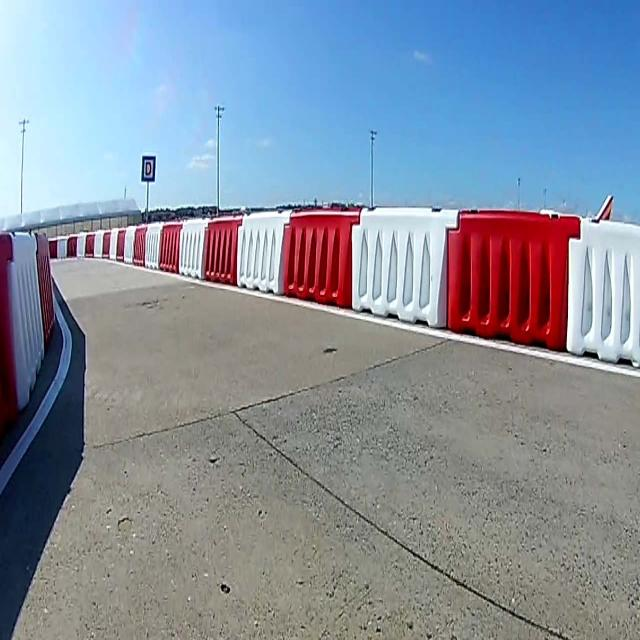durak: (141, 156, 156, 184)
